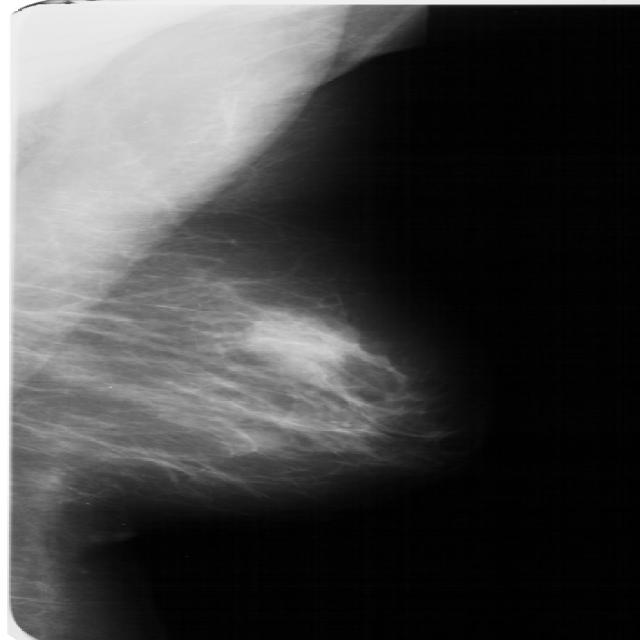tumour: (219, 428, 282, 450)
